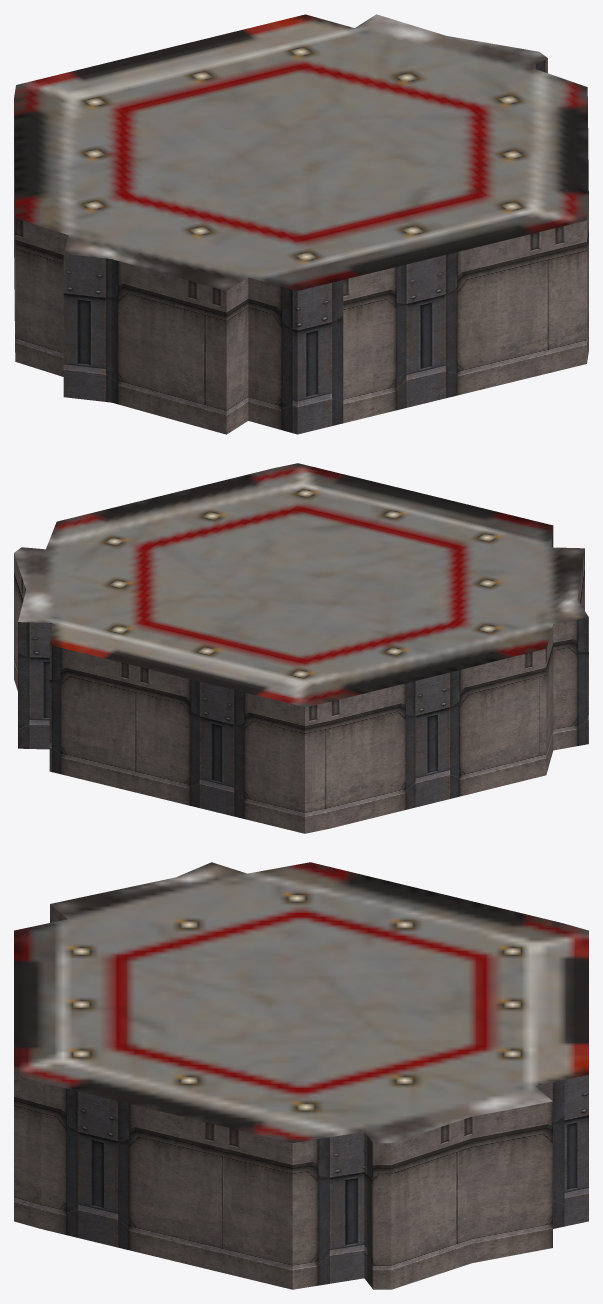
The model's file is bsealed_medium_18.glb.
The picture shows the model from 3 angles, top to bottom: view 1: azimuth 30°, elevation 25°; view 2: azimuth 150°, elevation 25°; view 3: azimuth 270°, elevation 25°; orthographic projection. The views are drawn at different scales.
Parts seen in each view (by area): view 1: buildings/saxarba/bsealed_medium/bsealed_medium_18; view 2: buildings/saxarba/bsealed_medium/bsealed_medium_18; view 3: buildings/saxarba/bsealed_medium/bsealed_medium_18.
Boxes of the visible parts, bbox=[...] form: buildings/saxarba/bsealed_medium/bsealed_medium_18: bbox=[14, 14, 588, 434]; buildings/saxarba/bsealed_medium/bsealed_medium_18: bbox=[14, 463, 588, 833]; buildings/saxarba/bsealed_medium/bsealed_medium_18: bbox=[14, 862, 588, 1289].
Bounding box in the file's own units: 74 × 18 × 64.
